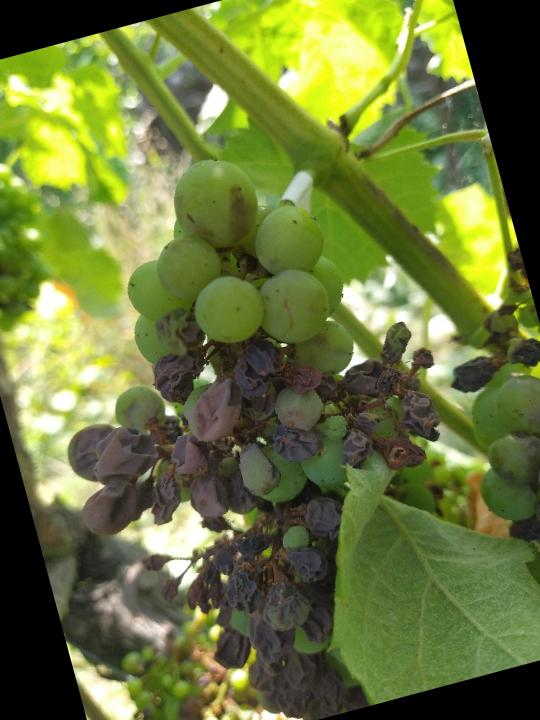grape: (0, 111, 515, 720)
